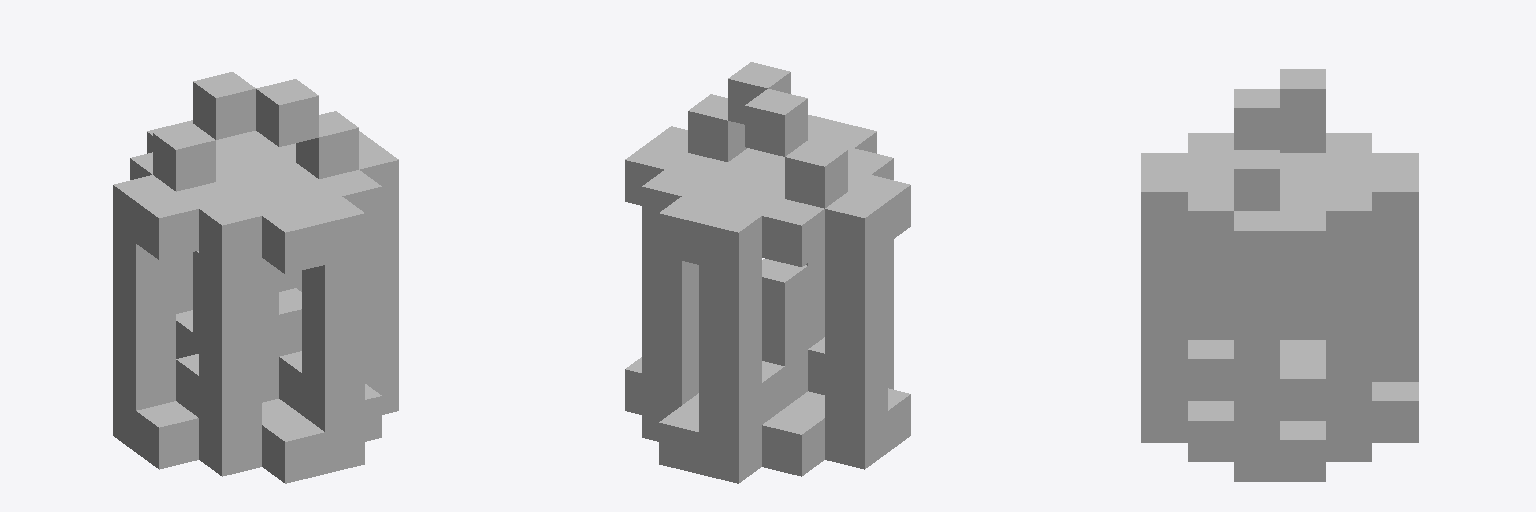
The model's file is Lantern.obj.
3 views of the same model, side by side, from view 1: azimuth 30°, elevation 25°; view 2: azimuth 150°, elevation 25°; view 3: azimuth 270°, elevation 25° (orthographic).
Visible parts, largest first — view 1: object 1; view 2: object 1; view 3: object 1.
Part boxes in pixels (bbox=[...]): object 1: bbox=[113, 72, 398, 483]; object 1: bbox=[625, 62, 910, 483]; object 1: bbox=[1141, 69, 1418, 481].
Bounding box in the file's own units: 0.6 × 0.8 × 0.6.